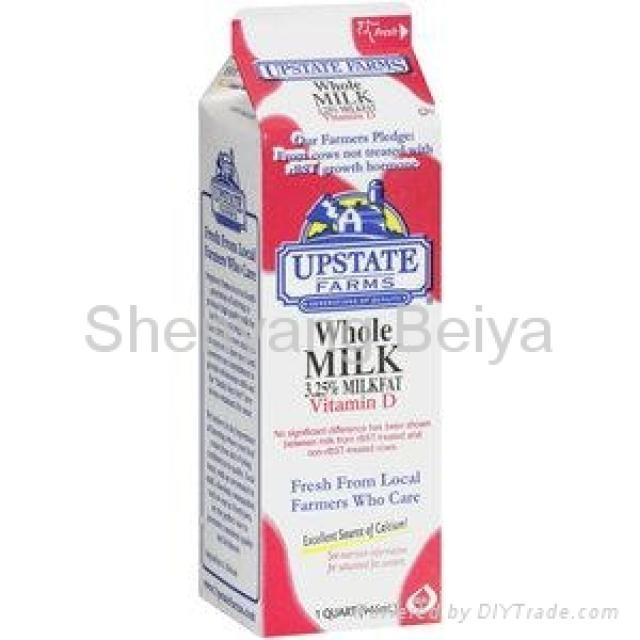Carton: (172, 9, 458, 640)
